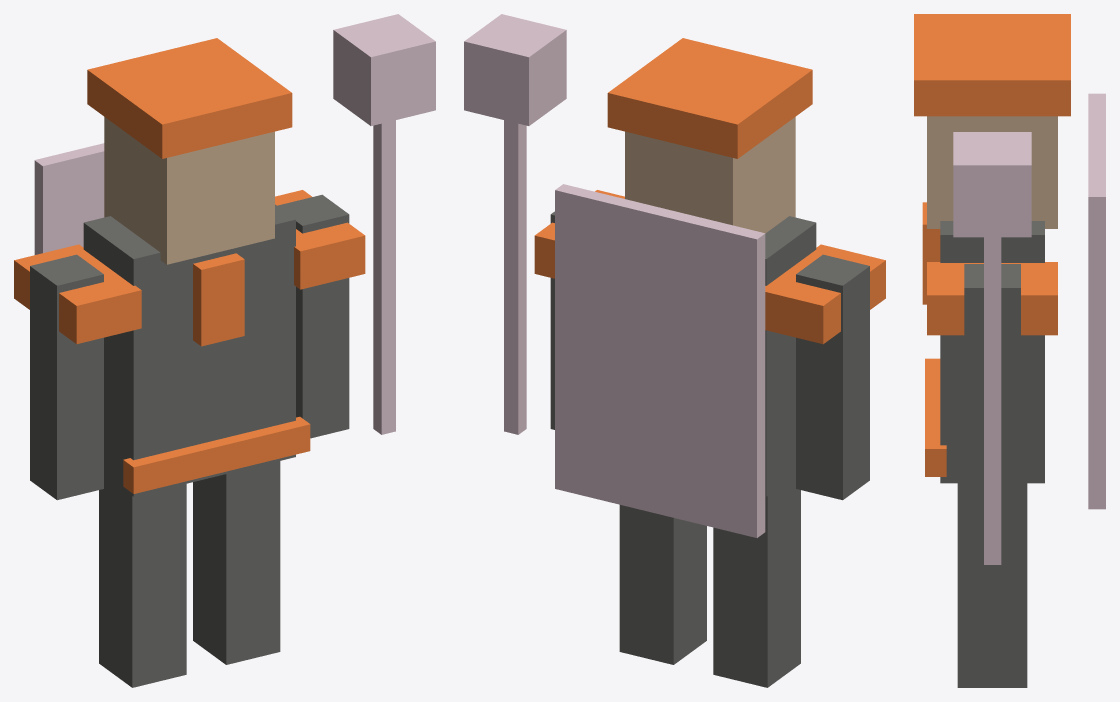
The model's file is 04_pax_glassroot_runner_near_crater.glb.
3 renders of one model, left to right at view 1: azimuth 30°, elevation 25°; view 2: azimuth 150°, elevation 25°; view 3: azimuth 270°, elevation 25°, orthographic. The views are drawn at different scales.
Parts seen in each view (by area): view 1: Pax Glassroot, Runner near Crater; view 2: Pax Glassroot, Runner near Crater; view 3: Pax Glassroot, Runner near Crater.
Boxes of the visible parts, x1=… form: Pax Glassroot, Runner near Crater: x1=14, y1=14, x2=435, y2=687; Pax Glassroot, Runner near Crater: x1=464, y1=14, x2=885, y2=687; Pax Glassroot, Runner near Crater: x1=914, y1=14, x2=1105, y2=687.
Bounding box in the file's own units: 1.1 × 1.62 × 0.468.
